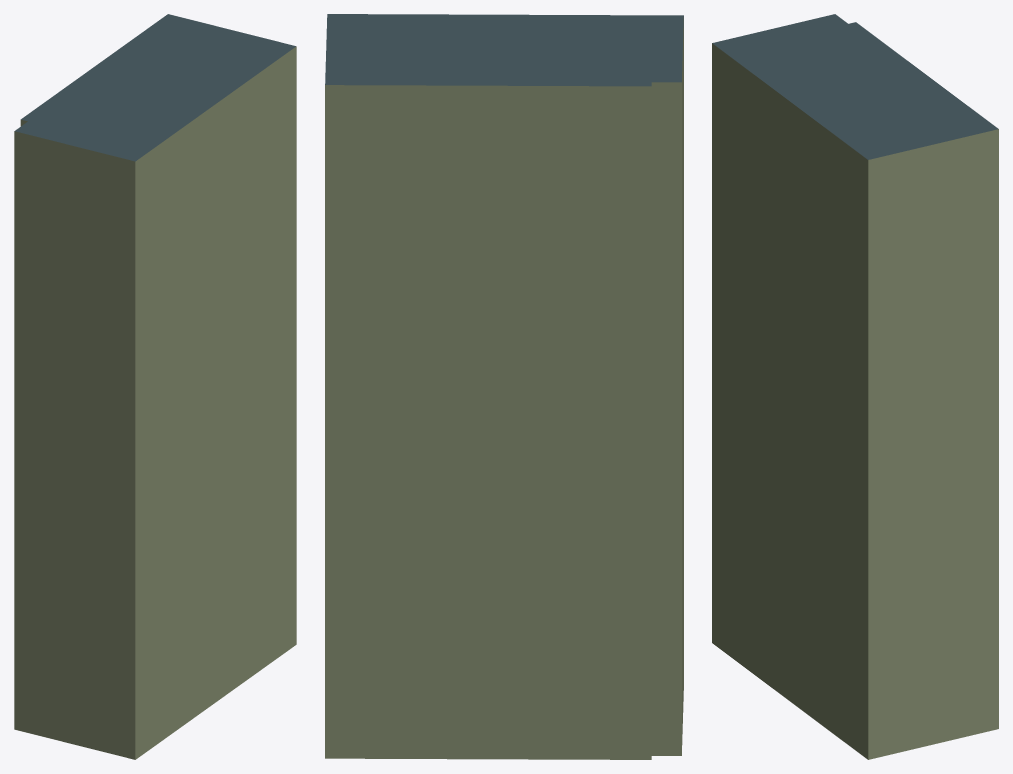
Rendered from nyc-1087268-0.glb.
The picture shows the model from 3 angles, left to right: view 1: azimuth 30°, elevation 25°; view 2: azimuth 150°, elevation 25°; view 3: azimuth 270°, elevation 25°; orthographic projection. The views are drawn at different scales.
Parts seen in each view (by area): view 1: nyc-1087268-0; view 2: nyc-1087268-0; view 3: nyc-1087268-0.
Boxes of the visible parts, x1=… form: nyc-1087268-0: x1=14, y1=14, x2=296, y2=759; nyc-1087268-0: x1=325, y1=14, x2=683, y2=759; nyc-1087268-0: x1=712, y1=14, x2=998, y2=759.
Bounding box in the file's own units: 141 × 271 × 117.
